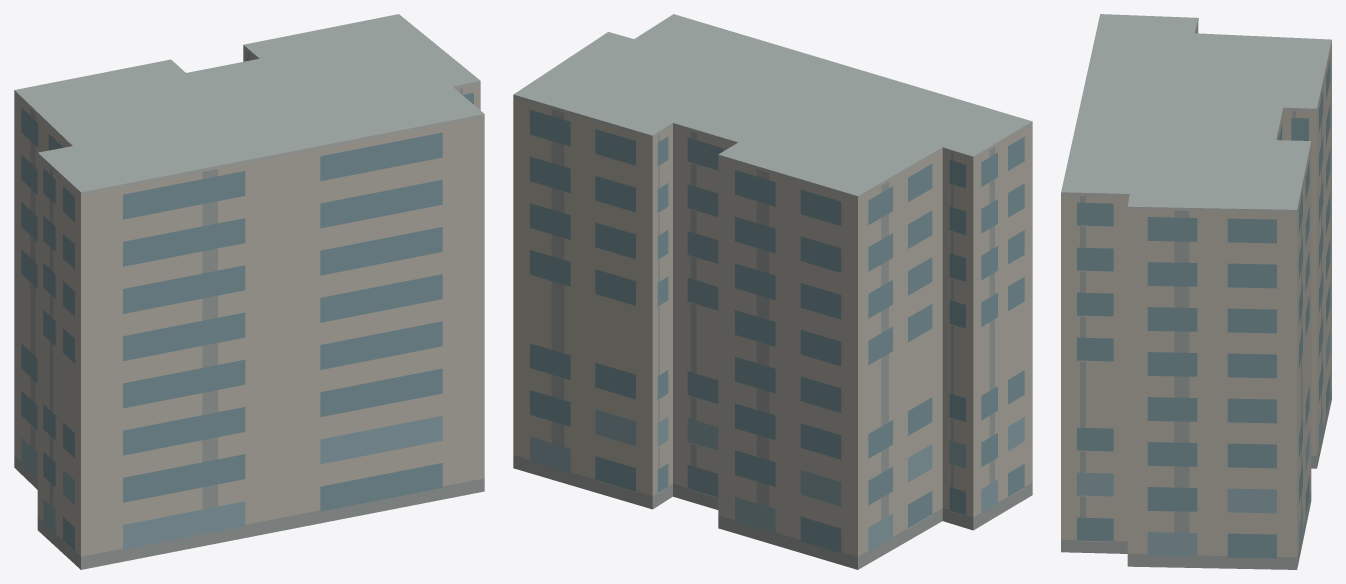
Rendered from survey-upis-32685336.glb.
3 renders of one model, left to right at view 1: azimuth 30°, elevation 25°; view 2: azimuth 150°, elevation 25°; view 3: azimuth 270°, elevation 25°, orthographic. The views are drawn at different scales.
Visible parts, largest first — view 1: survey-upis-32685336.tmp; view 2: survey-upis-32685336.tmp; view 3: survey-upis-32685336.tmp.
Part boxes in pixels (x1,y1,x2,y2): survey-upis-32685336.tmp: (14,14,484,569); survey-upis-32685336.tmp: (513,14,1032,569); survey-upis-32685336.tmp: (1061,14,1331,569).
Bounding box in the file's own units: 33.48 × 28.67 × 19.56.
